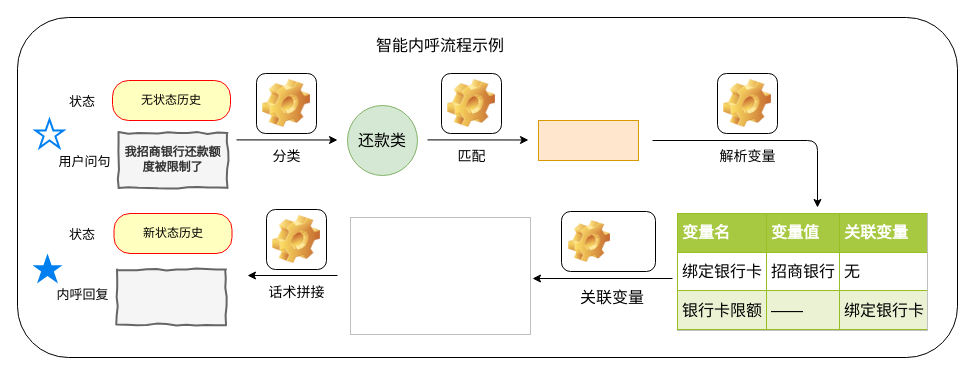
The diagram is 975 pixels wide and 375 high, and some of its shapes have lost their labels. Here are the shapes that lost their labels. From the top down, the centre of each, then its label:
point 588,140: 银行卡限额
point 608,241: 附件查询
point 440,275: 变量名 变量值 绑定银行卡 招商银行 银行卡限额 20000
point 171,296: 目前我行与招商银行限额为20000元，还请您谅解...
